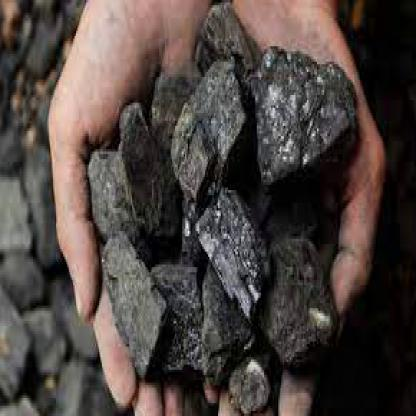Sedimentary_coal: (120, 172, 209, 413), (284, 70, 346, 210), (191, 82, 257, 172)
